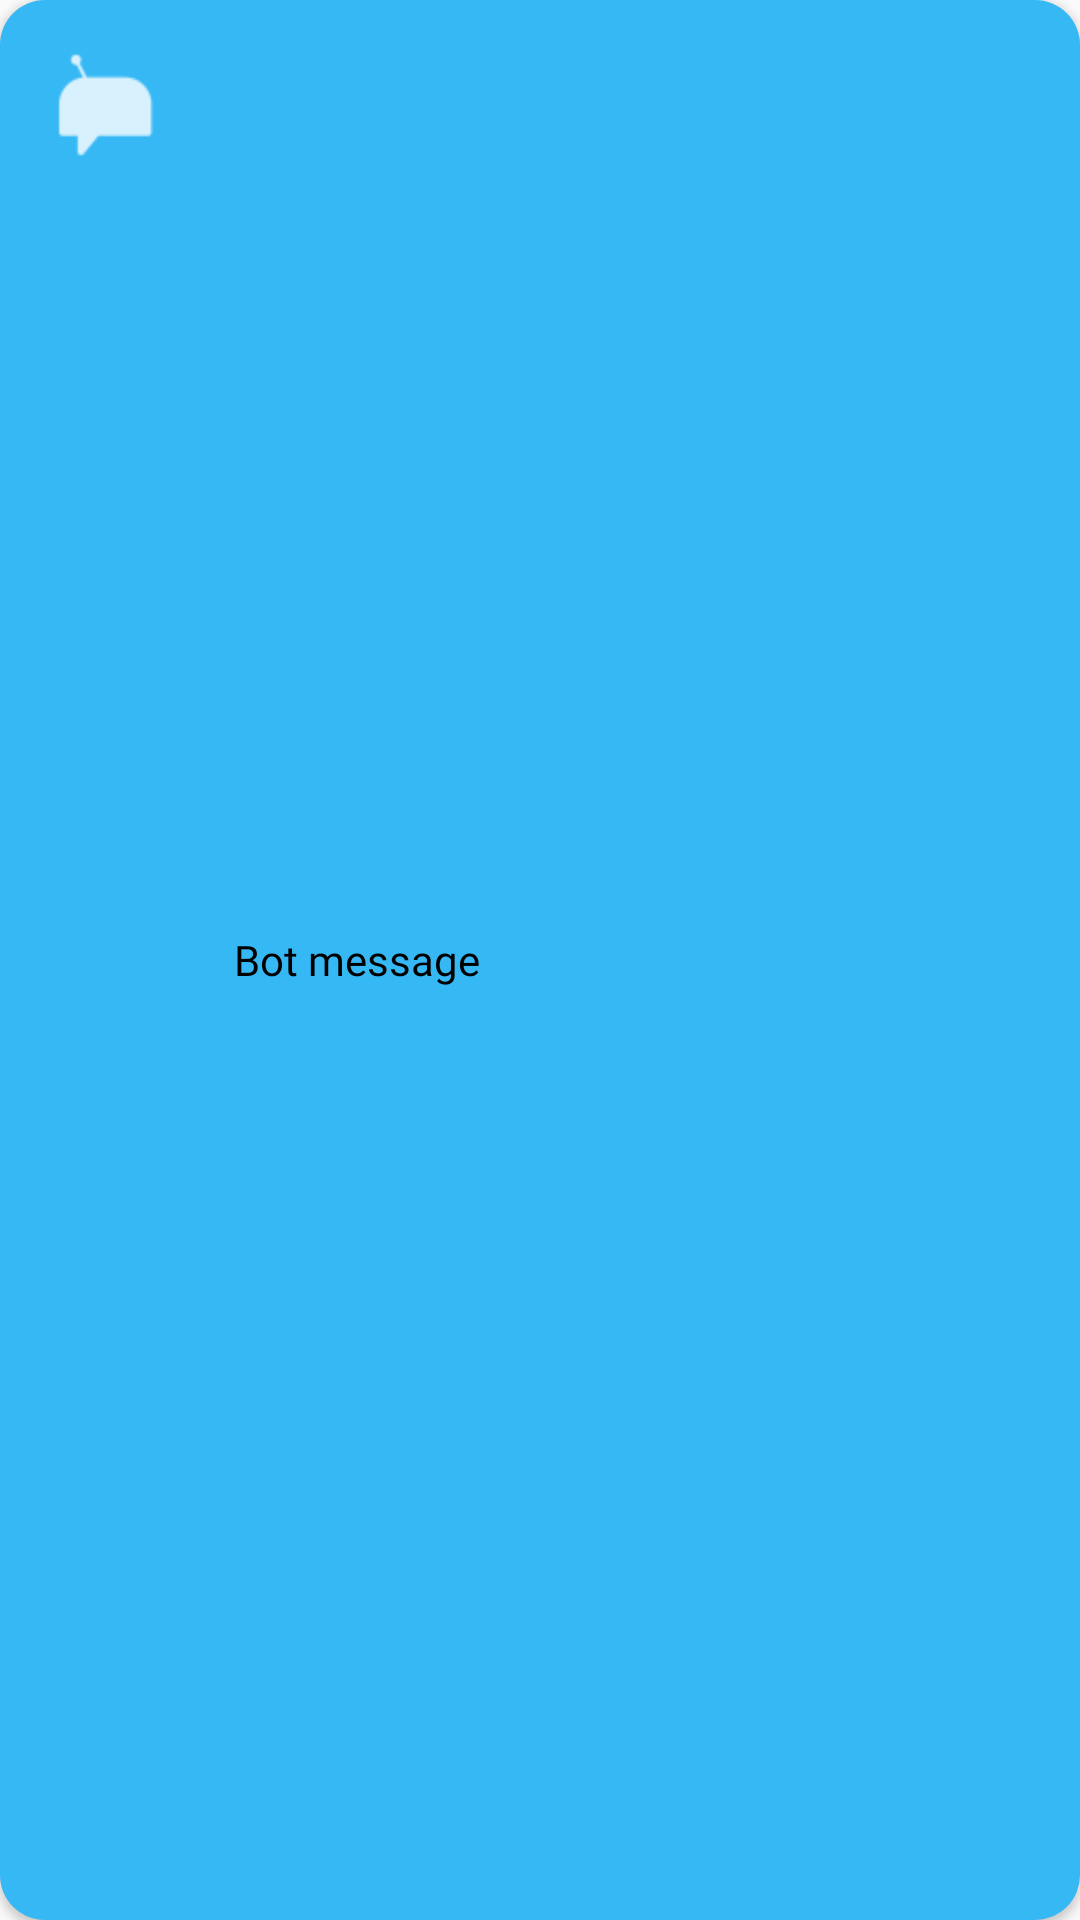

Icon bounding boxes for this 1080w x 1920h phone screenshot, format detection(x1, y1, x2, y2):
bot: detection(58, 54, 153, 156)
